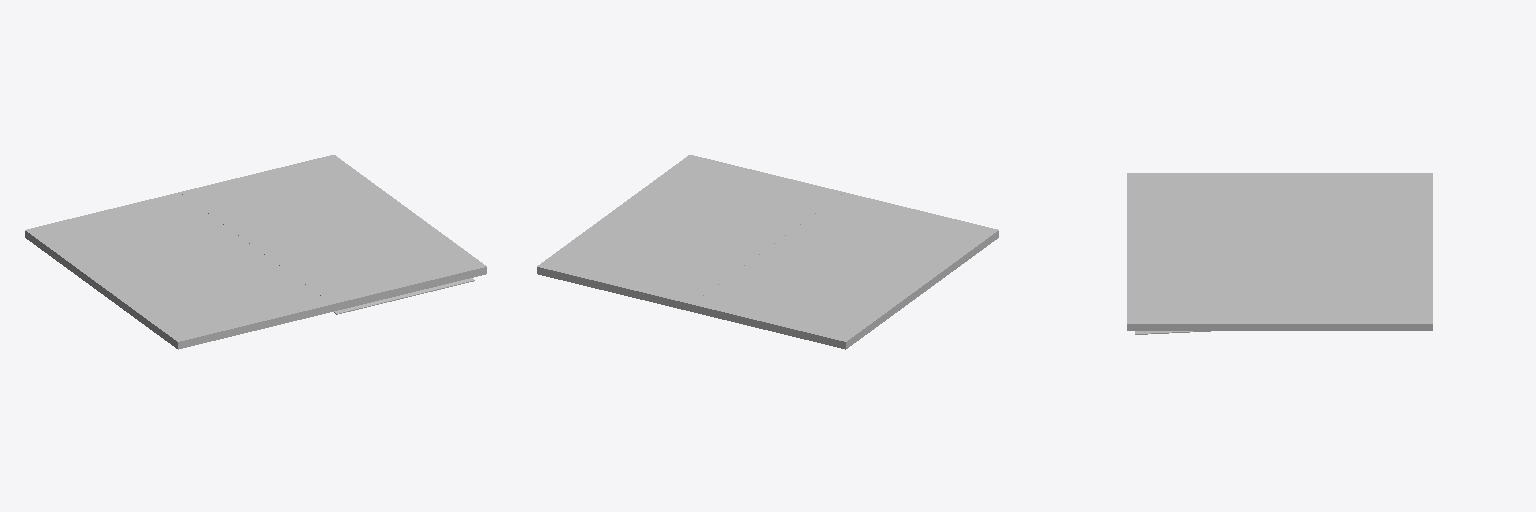
The model's file is Decke_offen.obj.
The picture shows the model from 3 angles: view 1: azimuth 30°, elevation 25°; view 2: azimuth 150°, elevation 25°; view 3: azimuth 270°, elevation 25°; orthographic projection.
Visible parts, largest first — view 1: Mesh62 Component_2220 G_10_V3_Decke_offen_Beleuchtung_dwg1 Model, Mesh26 Component_2194 G_10_V3_Decke_offen_Beleuchtung_dwg1 Model, Mesh46 Component_2217 G_10_V3_Decke_offen_Beleuchtung_dwg1 Model, Mesh10 Component_2191 G_10_V3_Decke_offen_Beleuchtung_dwg1 Model, Mesh28 Component_2195 G_10_V3_Decke_offen_Beleuchtung_dwg1 Model; view 2: Mesh62 Component_2220 G_10_V3_Decke_offen_Beleuchtung_dwg1 Model, Mesh26 Component_2194 G_10_V3_Decke_offen_Beleuchtung_dwg1 Model, Mesh46 Component_2217 G_10_V3_Decke_offen_Beleuchtung_dwg1 Model, Mesh10 Component_2191 G_10_V3_Decke_offen_Beleuchtung_dwg1 Model; view 3: Mesh26 Component_2194 G_10_V3_Decke_offen_Beleuchtung_dwg1 Model, Mesh62 Component_2220 G_10_V3_Decke_offen_Beleuchtung_dwg1 Model, Mesh10 Component_2191 G_10_V3_Decke_offen_Beleuchtung_dwg1 Model.
Part boxes in pixels (left/top/right/bottom): Mesh62 Component_2220 G_10_V3_Decke_offen_Beleuchtung_dwg1 Model: left=25, top=192, right=332, bottom=343; Mesh26 Component_2194 G_10_V3_Decke_offen_Beleuchtung_dwg1 Model: left=180, top=155, right=486, bottom=305; Mesh46 Component_2217 G_10_V3_Decke_offen_Beleuchtung_dwg1 Model: left=25, top=232, right=332, bottom=349; Mesh10 Component_2191 G_10_V3_Decke_offen_Beleuchtung_dwg1 Model: left=333, top=269, right=486, bottom=311; Mesh28 Component_2195 G_10_V3_Decke_offen_Beleuchtung_dwg1 Model: left=334, top=278, right=474, bottom=314; Mesh62 Component_2220 G_10_V3_Decke_offen_Beleuchtung_dwg1 Model: left=691, top=192, right=998, bottom=343; Mesh26 Component_2194 G_10_V3_Decke_offen_Beleuchtung_dwg1 Model: left=537, top=155, right=843, bottom=305; Mesh46 Component_2217 G_10_V3_Decke_offen_Beleuchtung_dwg1 Model: left=691, top=232, right=998, bottom=349; Mesh10 Component_2191 G_10_V3_Decke_offen_Beleuchtung_dwg1 Model: left=537, top=269, right=690, bottom=311; Mesh26 Component_2194 G_10_V3_Decke_offen_Beleuchtung_dwg1 Model: left=1127, top=248, right=1432, bottom=324; Mesh62 Component_2220 G_10_V3_Decke_offen_Beleuchtung_dwg1 Model: left=1127, top=173, right=1432, bottom=247; Mesh10 Component_2191 G_10_V3_Decke_offen_Beleuchtung_dwg1 Model: left=1127, top=325, right=1432, bottom=330.
Bounding box in the file's own units: 189 × 9 × 162.